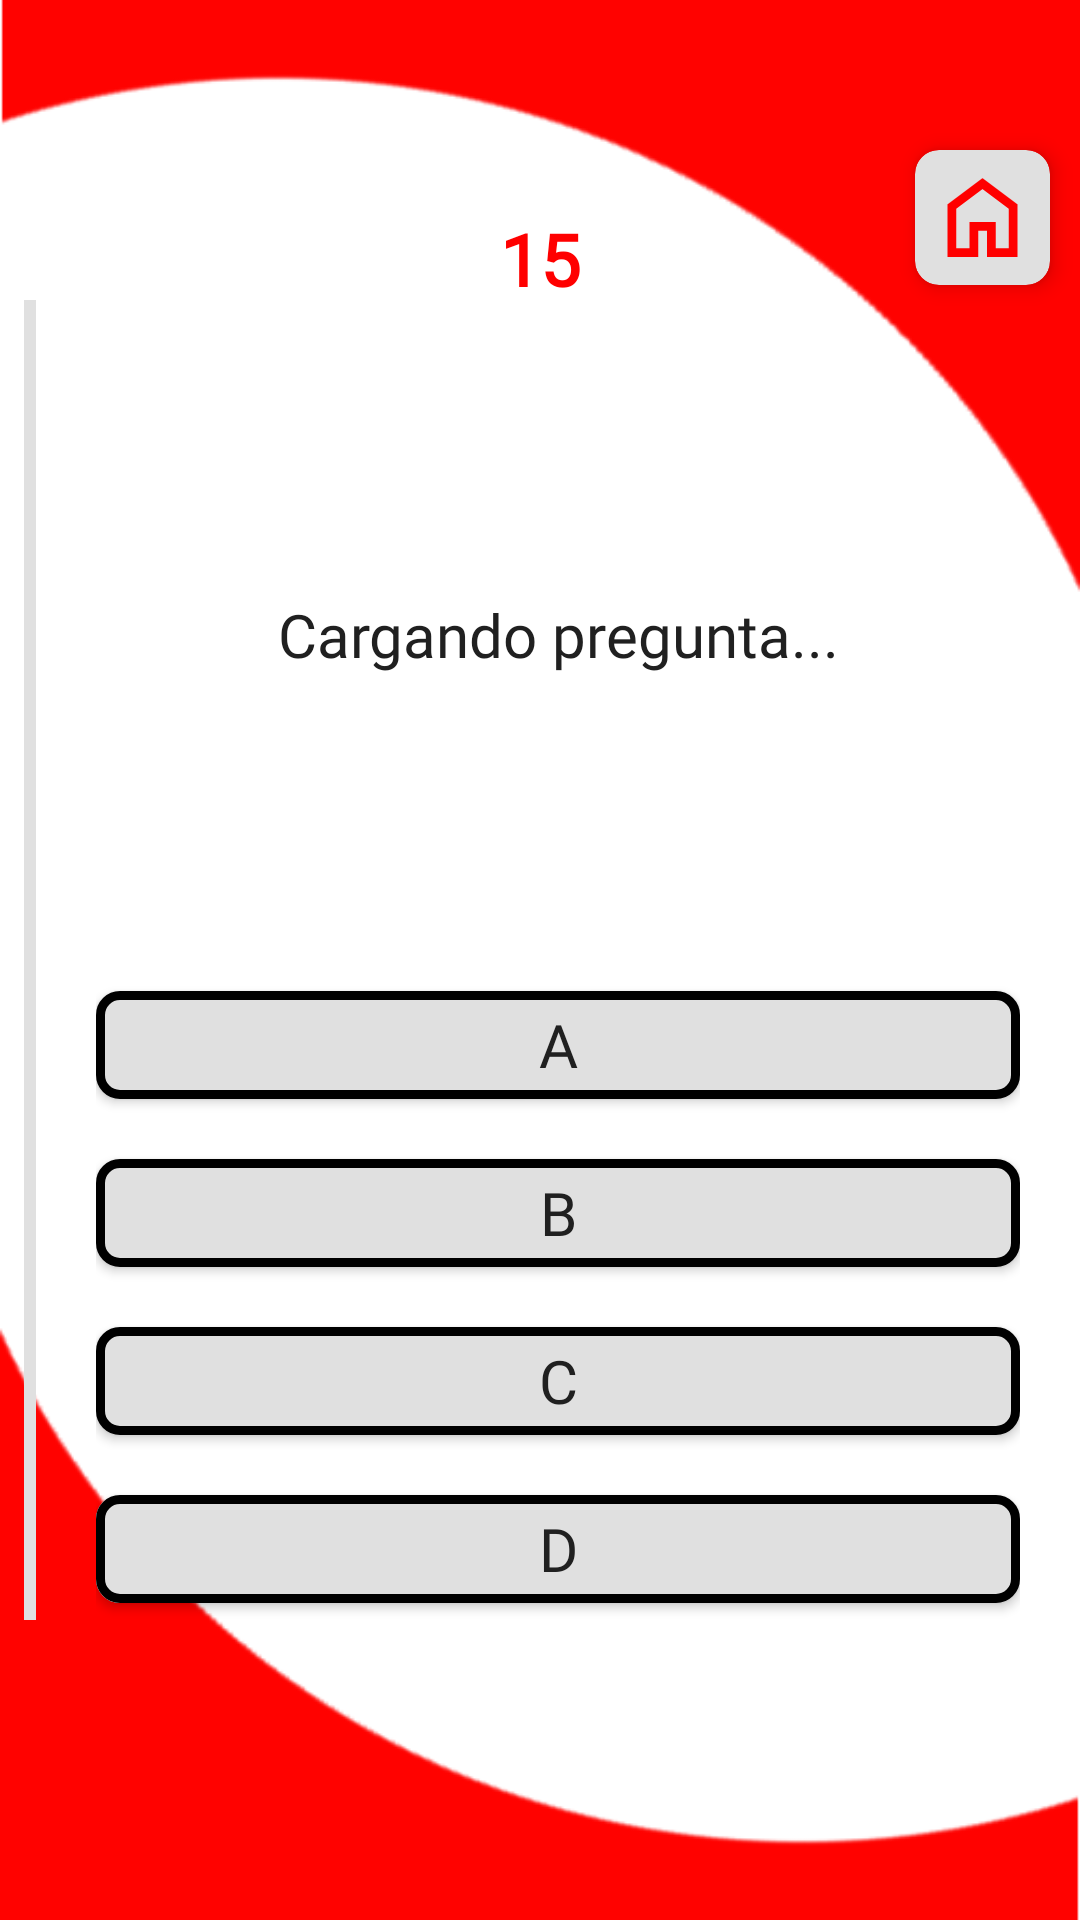

Locate icon controls on the screen. Image size 1080*1920, boxes as (x1, y1, x2, y2).
home: (915, 150, 1050, 285)
